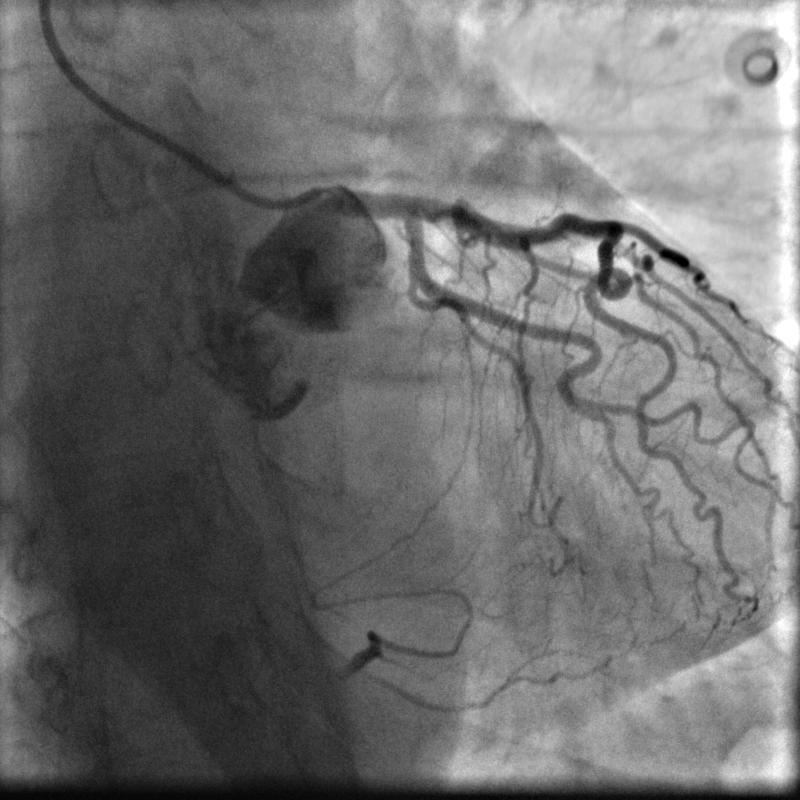Stenosis: (426, 192, 461, 224)
